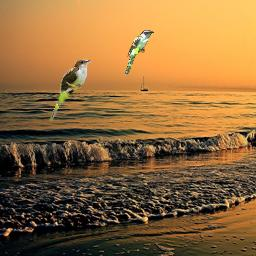Cuckoo: (49, 59, 91, 121), (125, 30, 154, 75)
